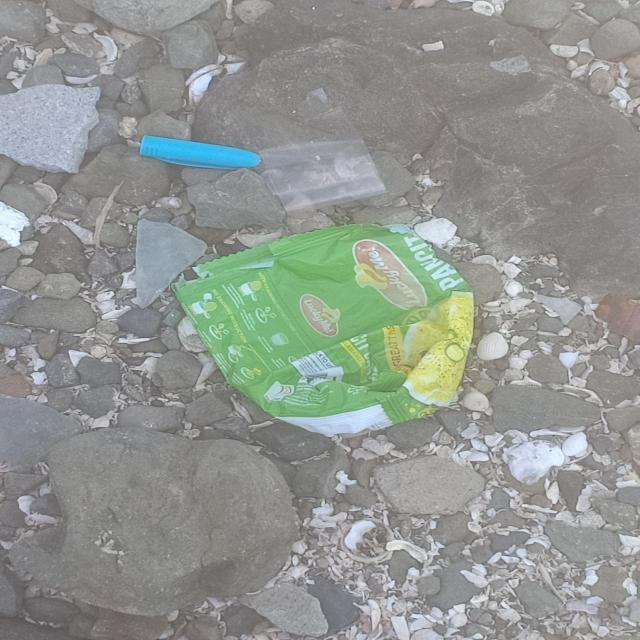plastic_waste: (170, 224, 477, 439)
